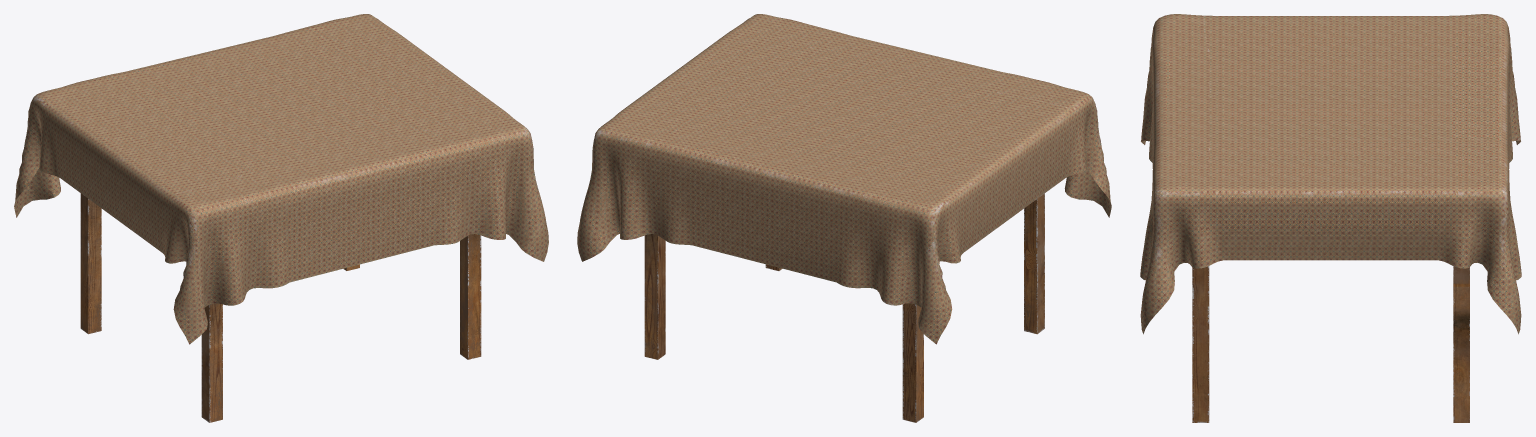
File: table_wood_canteen_the_chair.glb
The picture shows the model from 3 angles, left to right: view 1: azimuth 30°, elevation 25°; view 2: azimuth 150°, elevation 25°; view 3: azimuth 270°, elevation 25°; orthographic projection. The views are drawn at different scales.
Visible parts, largest first — view 1: Object_2; view 2: Object_2; view 3: Object_2.
Part boxes in pixels (left/top/right/bottom): Object_2: left=14, top=14, right=548, bottom=422; Object_2: left=577, top=14, right=1111, bottom=422; Object_2: left=1140, top=14, right=1521, bottom=422.
Size of the model in its own units: 138 by 82.6 by 114.
Materials: 1 (1 with a texture image).
